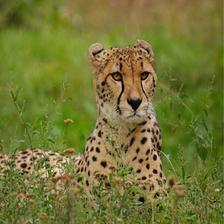Cheetah: (0, 38, 170, 214)
